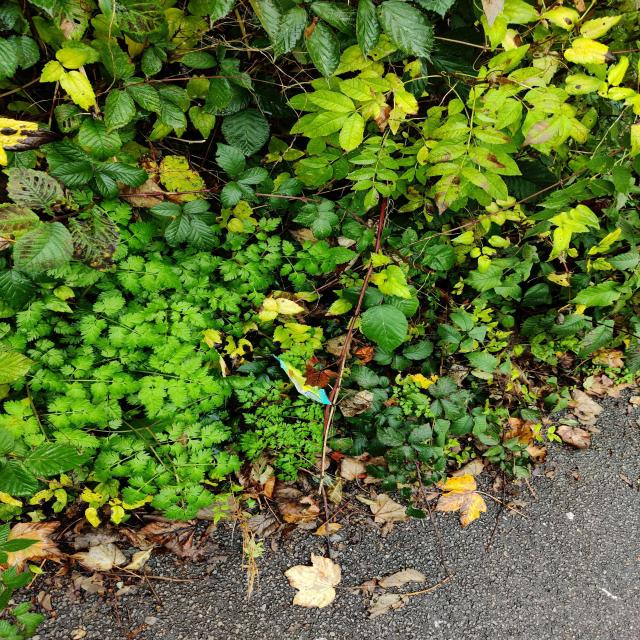litter: (273, 355, 329, 403)
